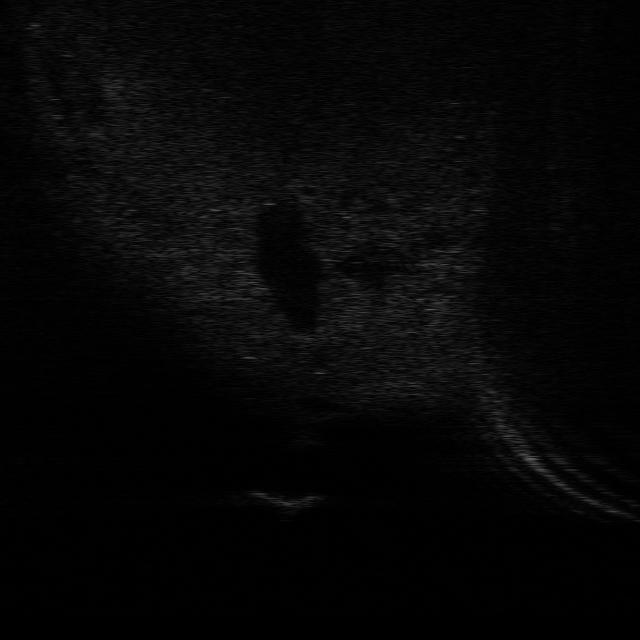cube: (242, 490, 326, 516)
